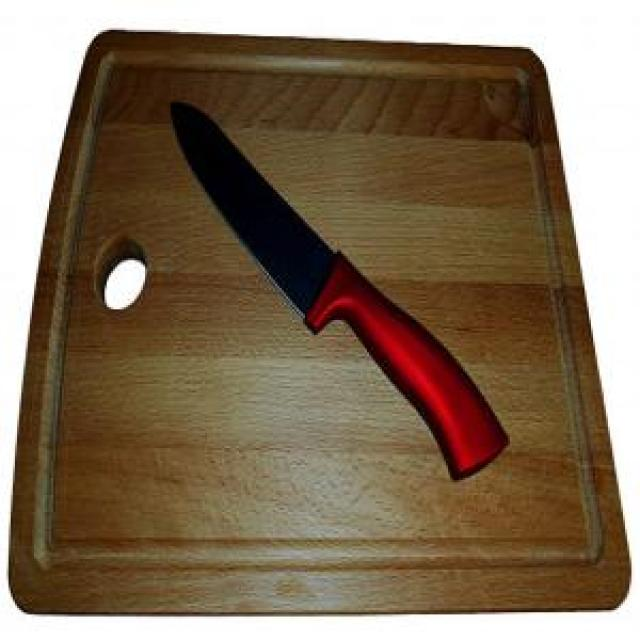knife: (173, 96, 513, 485)
